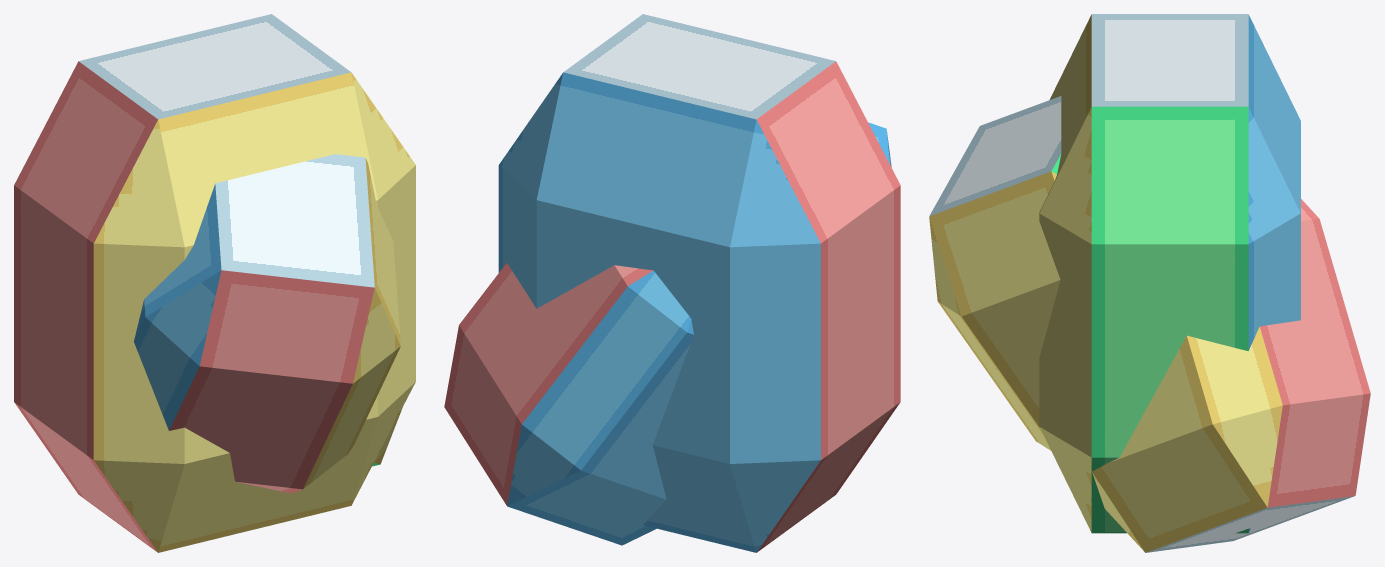
File: rock1.gltf
The picture shows the model from 3 angles, left to right: view 1: azimuth 30°, elevation 25°; view 2: azimuth 150°, elevation 25°; view 3: azimuth 270°, elevation 25°; orthographic projection.
Visible parts, largest first — view 1: beveled_cuboid-col (×2); view 2: beveled_cuboid-col (×2); view 3: beveled_cuboid-col (×3).
Part boxes in pixels (left/top/right/bottom): beveled_cuboid-col (×2): left=14, top=14, right=415, bottom=552; beveled_cuboid-col (×2): left=444, top=14, right=900, bottom=552; beveled_cuboid-col (×3): left=929, top=14, right=1370, bottom=552.
Bounding box in the file's own units: 0.9966 × 1.21 × 1.06.
1 material, 1 textured.
